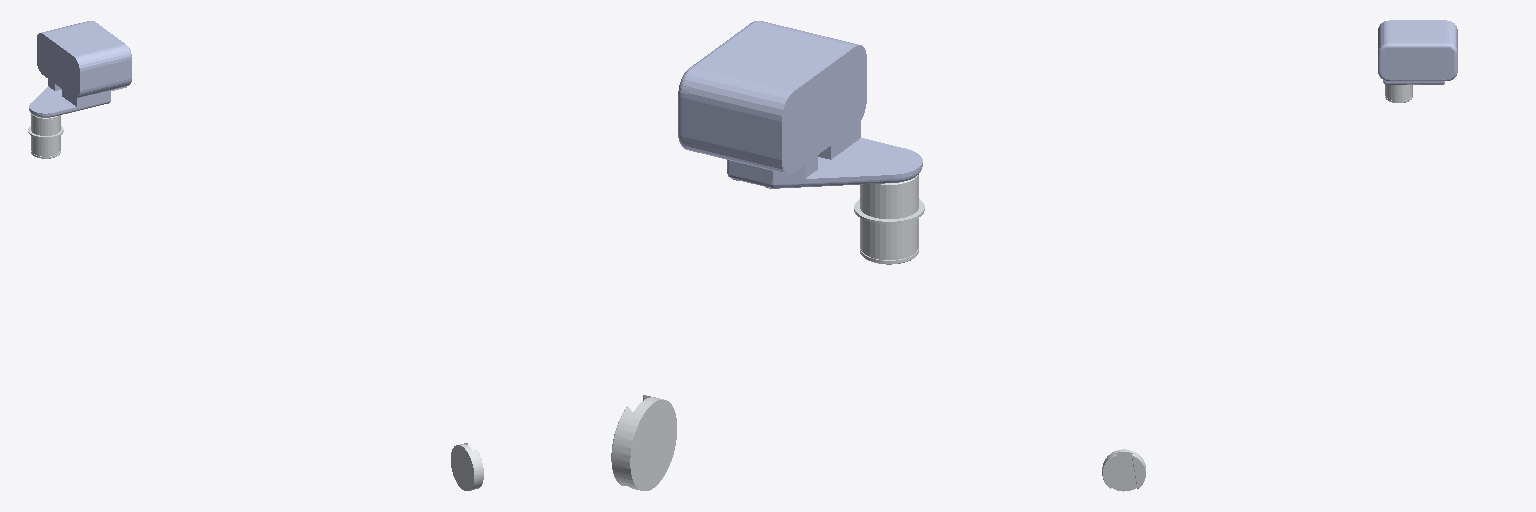
robot.urdf — stretch_description_SE3_DW3_collision.SLDASM6:
<?xml version="1.0" encoding="utf-8"?>
<!-- This URDF was automatically created by SolidWorks to URDF Exporter! Originally created by [author] ([email redacted]) 
     Commit Version: 1.5.1-0-g916b5db  Build Version: 1.5.7152.31018
     For more information, please see http://wiki.ros.org/sw_urdf_exporter -->
<robot
  name="stretch_description_SE3_DW3_collision.SLDASM6">
  <link
    name="link_wrist_yaw">
    <inertial>
      <origin
        xyz="2.20130857986334E-11 2.93171678765192E-05 -0.0189665926447277"
        rpy="0 0 0" />
      <mass
        value="0.0404746907425004" />
      <inertia
        ixx="6.57801136682346E-06"
        ixy="7.84074127634584E-16"
        ixz="-1.98867435460208E-14"
        iyy="6.58204899910504E-06"
        iyz="-5.83819552651482E-09"
        izz="3.85021258520436E-06" />
    </inertial>
    <visual>
      <origin
        xyz="0 0 0"
        rpy="0 0 0" />
      <geometry>
        <mesh
          filename="package://stretch_description_SE3_DW3_collision.SLDASM6/meshes/link_wrist_yaw.STL" />
      </geometry>
      <material
        name="">
        <color
          rgba="0.898039215686275 0.917647058823529 0.929411764705882 1" />
      </material>
    </visual>
    <collision>
      <origin
        xyz="0 0 0"
        rpy="0 0 0" />
      <geometry>
        <mesh
          filename="package://stretch_description_SE3_DW3_collision.SLDASM6/meshes/link_wrist_yaw.STL" />
      </geometry>
    </collision>
  </link>
  <link
    name="link_wrist_yaw_bottom">
    <inertial>
      <origin
        xyz="-0.00527946754787351 -0.023440407701078 -0.0338911615528338"
        rpy="0 0 0" />
      <mass
        value="0.479945149794479" />
      <inertia
        ixx="0.000677626708505104"
        ixy="-0.000131416653211877"
        ixz="4.81767653214768E-05"
        iyy="0.000601520279757542"
        iyz="4.69462432723783E-05"
        izz="0.000637734093362173" />
    </inertial>
    <visual>
      <origin
        xyz="0 0 0"
        rpy="0 0 0" />
      <geometry>
        <mesh
          filename="package://stretch_description_SE3_DW3_collision.SLDASM6/meshes/link_wrist_yaw_bottom.STL" />
      </geometry>
      <material
        name="">
        <color
          rgba="0.792156862745098 0.819607843137255 0.933333333333333 1" />
      </material>
    </visual>
    <collision>
      <origin
        xyz="0 0 0"
        rpy="0 0 0" />
      <geometry>
        <mesh
          filename="package://stretch_description_SE3_DW3_collision.SLDASM6/meshes/link_wrist_yaw_bottom.STL" />
      </geometry>
    </collision>
  </link>
  <joint
    name="joint_wrist_yaw_bottom"
    type="fixed">
    <origin
      xyz="0 0 0"
      rpy="-3.1416 0 -1.5708" />
    <parent
      link="link_wrist_yaw" />
    <child
      link="link_wrist_yaw_bottom" />
    <axis
      xyz="0 0 0" />
  </joint>
  <link
    name="link_wrist_pitch">
    <inertial>
      <origin
        xyz="0.00134493095200564 -0.0169963296762481 0.0181750000000039"
        rpy="0 0 0" />
      <mass
        value="0.170682334051998" />
      <inertia
        ixx="0.000111823783539827"
        ixy="5.34026613316324E-19"
        ixz="-1.21179654814497E-21"
        iyy="6.33522116424533E-05"
        iyz="-4.31324114341749E-20"
        izz="0.000133556174788272" />
    </inertial>
    <visual>
      <origin
        xyz="0 0 0"
        rpy="0 0 0" />
      <geometry>
        <mesh
          filename="package://stretch_description_SE3_DW3_collision.SLDASM6/meshes/link_wrist_pitch.STL" />
      </geometry>
      <material
        name="">
        <color
          rgba="1 1 1 1" />
      </material>
    </visual>
    <collision>
      <origin
        xyz="0 0 0"
        rpy="0 0 0" />
      <geometry>
        <mesh
          filename="package://stretch_description_SE3_DW3_collision.SLDASM6/meshes/link_wrist_pitch.STL" />
      </geometry>
    </collision>
  </link>
  <joint
    name="joint_wrist_pitch"
    type="revolute">
    <origin
      xyz="0 -0.019455 -0.0305"
      rpy="1.5708 0 3.1416" />
    <parent
      link="link_wrist_yaw_bottom" />
    <child
      link="link_wrist_pitch" />
    <axis
      xyz="0 0 1" />
    <limit
      lower="0"
      upper="0"
      effort="0"
      velocity="0" />
  </joint>
  <link
    name="link_wrist_roll">
    <inertial>
      <origin
        xyz="0 -2.22044604925031E-16 0.0207499999999871"
        rpy="0 0 0" />
      <mass
        value="0.04104" />
      <inertia
        ixx="5.780655E-06"
        ixy="-3.07713808166797E-22"
        ixz="1.2762612936718E-21"
        iyy="5.780655E-06"
        iyz="2.59721224656058E-21"
        izz="1.0944E-05" />
    </inertial>
    <visual>
      <origin
        xyz="0 0 0"
        rpy="0 0 0" />
      <geometry>
        <mesh
          filename="package://stretch_description_SE3_DW3_collision.SLDASM6/meshes/link_wrist_roll.STL" />
      </geometry>
      <material
        name="">
        <color
          rgba="0.898039215686275 0.917647058823529 0.929411764705882 1" />
      </material>
    </visual>
    <collision>
      <origin
        xyz="0 0 0"
        rpy="0 0 0" />
      <geometry>
        <mesh
          filename="package://stretch_description_SE3_DW3_collision.SLDASM6/meshes/link_wrist_roll.STL" />
      </geometry>
    </collision>
  </link>
  <joint
    name="joint_wrist_roll"
    type="revolute">
    <origin
      xyz="-0.018859 -0.024 0.01955"
      rpy="3.1416 1.5708 0" />
    <parent
      link="link_wrist_pitch" />
    <child
      link="link_wrist_roll" />
    <axis
      xyz="0 0 -1" />
    <limit
      lower="0"
      upper="0"
      effort="0"
      velocity="0" />
  </joint>
</robot>

--- Render facts (derived) ---
3 views of the same robot in one strip: view 1: azimuth 30°, elevation 25°; view 2: azimuth 150°, elevation 25°; view 3: azimuth 270°, elevation 25° (orthographic).
Robot: stretch_description_SE3_DW3_collision.SLDASM6 — 4 links, 3 joints (2 revolute, 1 fixed); root link link_wrist_yaw; default pose: every joint at zero.
Links seen in each view (by area): view 1: link_wrist_yaw_bottom, link_wrist_yaw, link_wrist_roll; view 2: link_wrist_yaw_bottom, link_wrist_roll, link_wrist_yaw; view 3: link_wrist_yaw_bottom, link_wrist_roll.
Link boxes in pixels (x1,y1,x2,y2): link_wrist_yaw_bottom: (29,21,131,117); link_wrist_yaw: (28,114,63,158); link_wrist_roll: (451,443,483,490); link_wrist_yaw_bottom: (678,21,922,188); link_wrist_roll: (611,395,676,490); link_wrist_yaw: (854,175,924,264); link_wrist_yaw_bottom: (1378,20,1457,84); link_wrist_roll: (1102,449,1145,491).
Bounding box of the posed robot: 0.2843 × 0.3234 × 0.3596 m (x, y, z).
Meshes: 4 distinct files referenced, 3 mesh visuals loaded (3 binary STL); not drawn: 1 (reference not matched to a file when rendering).